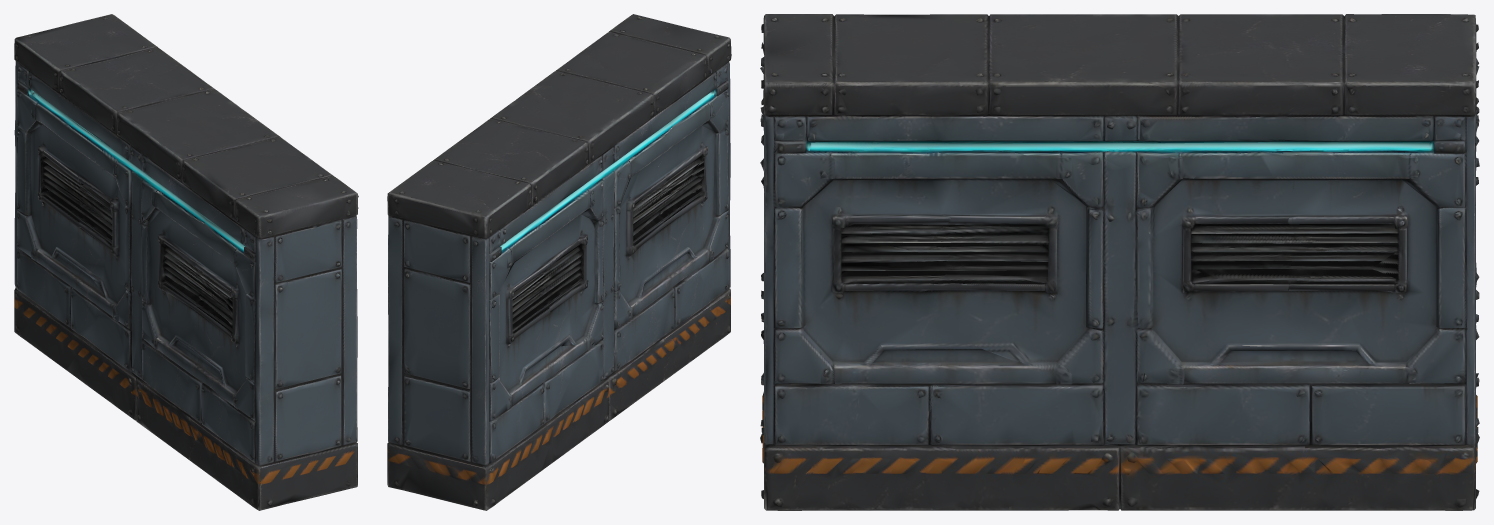
File: prop_wall.glb
The picture shows the model from 3 angles, left to right: view 1: azimuth 30°, elevation 25°; view 2: azimuth 150°, elevation 25°; view 3: azimuth 270°, elevation 25°; orthographic projection. The views are drawn at different scales.
Parts seen in each view (by area): view 1: tripo_node_f93378da-c1ee-4ede-8d8a-67768c266dc6; view 2: tripo_node_f93378da-c1ee-4ede-8d8a-67768c266dc6; view 3: tripo_node_f93378da-c1ee-4ede-8d8a-67768c266dc6.
Boxes of the visible parts, box(x1,y1,x2,y2) form: tripo_node_f93378da-c1ee-4ede-8d8a-67768c266dc6: box(14, 14, 358, 510); tripo_node_f93378da-c1ee-4ede-8d8a-67768c266dc6: box(387, 14, 731, 510); tripo_node_f93378da-c1ee-4ede-8d8a-67768c266dc6: box(760, 14, 1479, 510).
Size of the model in its own units: 0.246 by 0.6473 by 0.981.
1 material, 1 textured.
